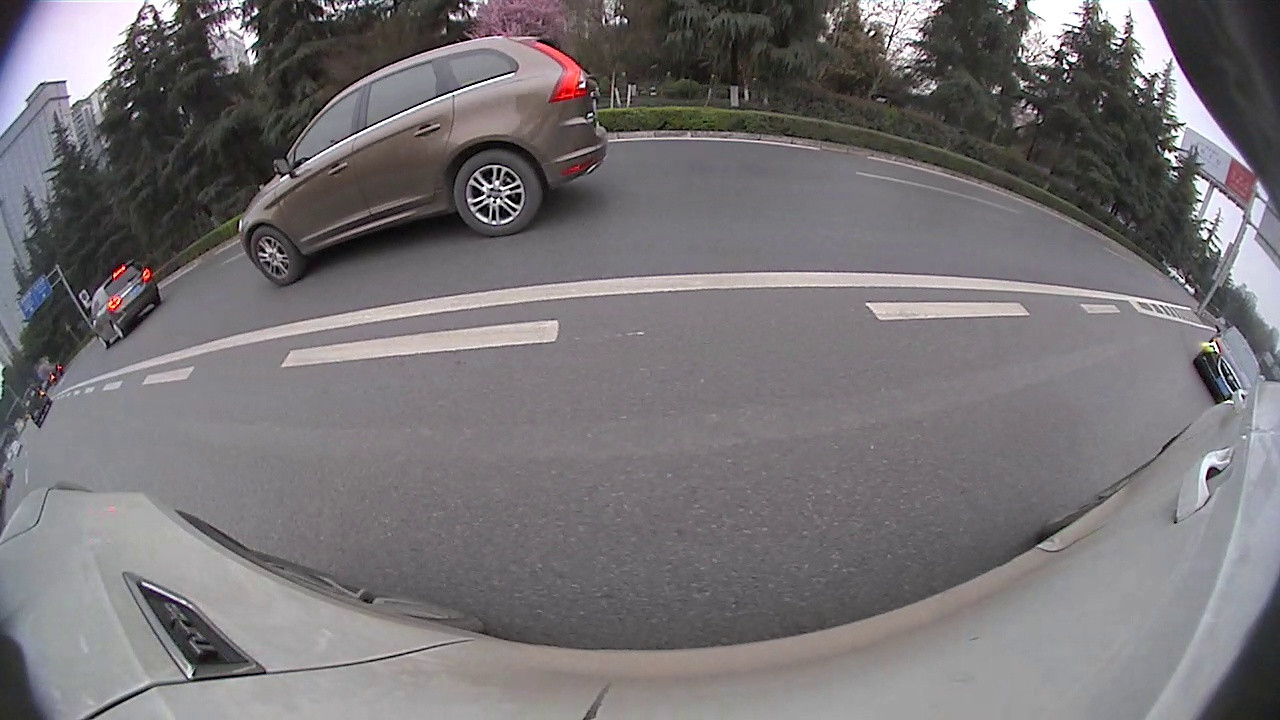car: (236, 31, 611, 288), (87, 257, 162, 352), (1192, 317, 1265, 404), (19, 383, 54, 428)
front: (251, 230, 297, 284), (97, 335, 109, 349)
rear: (452, 152, 539, 234), (111, 321, 125, 339)
